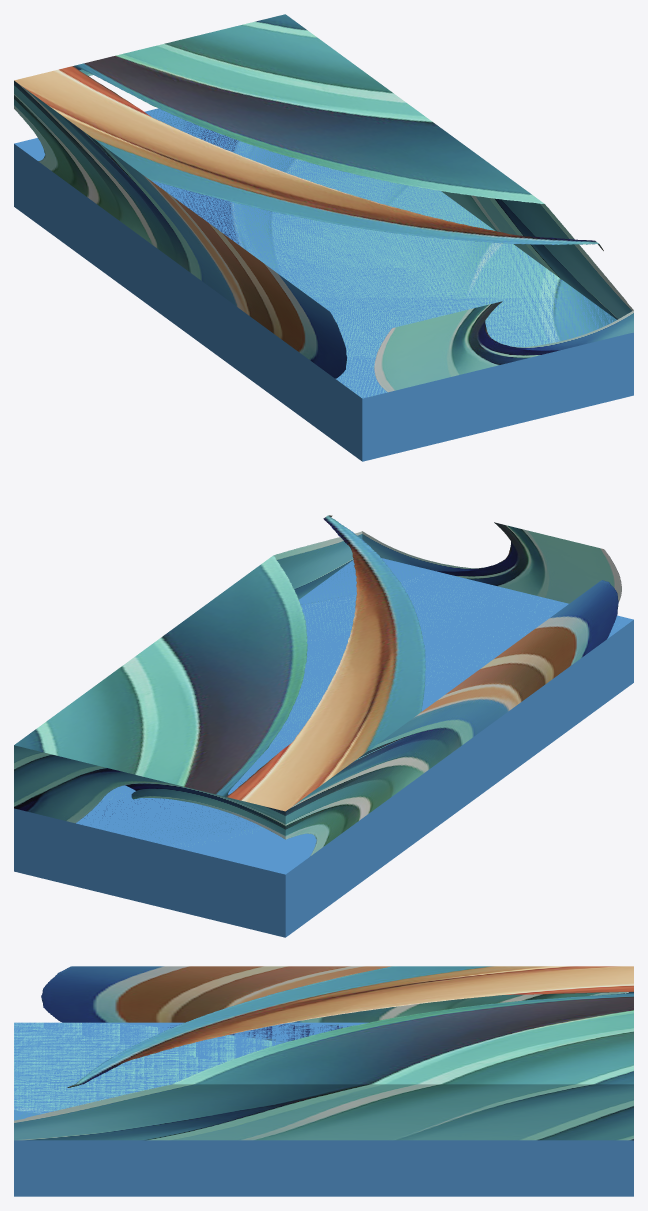
Rendered from SmartressTestModell_02_2.fbx.
The picture shows the model from 3 angles, top to bottom: view 1: azimuth 30°, elevation 25°; view 2: azimuth 150°, elevation 25°; view 3: azimuth 270°, elevation 25°; orthographic projection. The views are drawn at different scales.
Parts seen in each view (by area): view 1: ObererTeil, UntererTeil; view 2: ObererTeil, UntererTeil; view 3: ObererTeil, UntererTeil.
Part boxes in pixels (x1=…): ObererTeil: x1=14, y1=14, x2=633, y2=398; UntererTeil: x1=14, y1=108, x2=633, y2=461; ObererTeil: x1=14, y1=515, x2=621, y2=856; UntererTeil: x1=14, y1=558, x2=633, y2=937; ObererTeil: x1=14, y1=966, x2=633, y2=1140; UntererTeil: x1=14, y1=1022, x2=633, y2=1196.
Size of the model in its own units: 90 by 40 by 200.
Materials: 2 (1 with a texture image).
